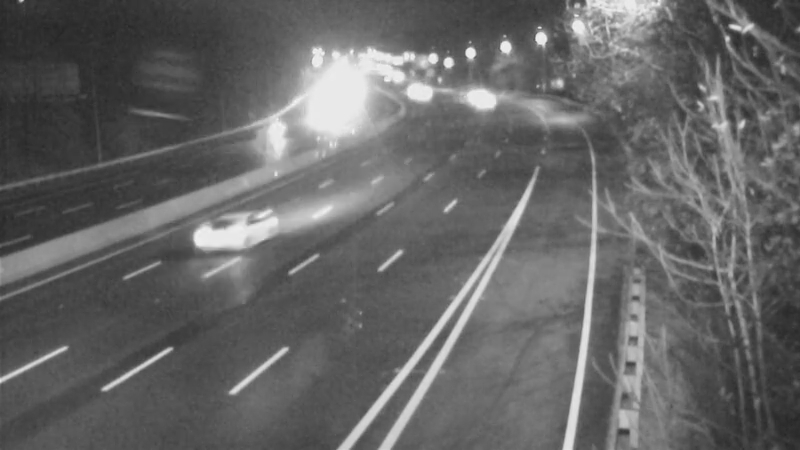vehicle: (187, 199, 267, 279), (390, 64, 440, 114), (399, 69, 449, 119), (449, 69, 499, 119), (460, 76, 510, 126), (249, 112, 299, 162)
